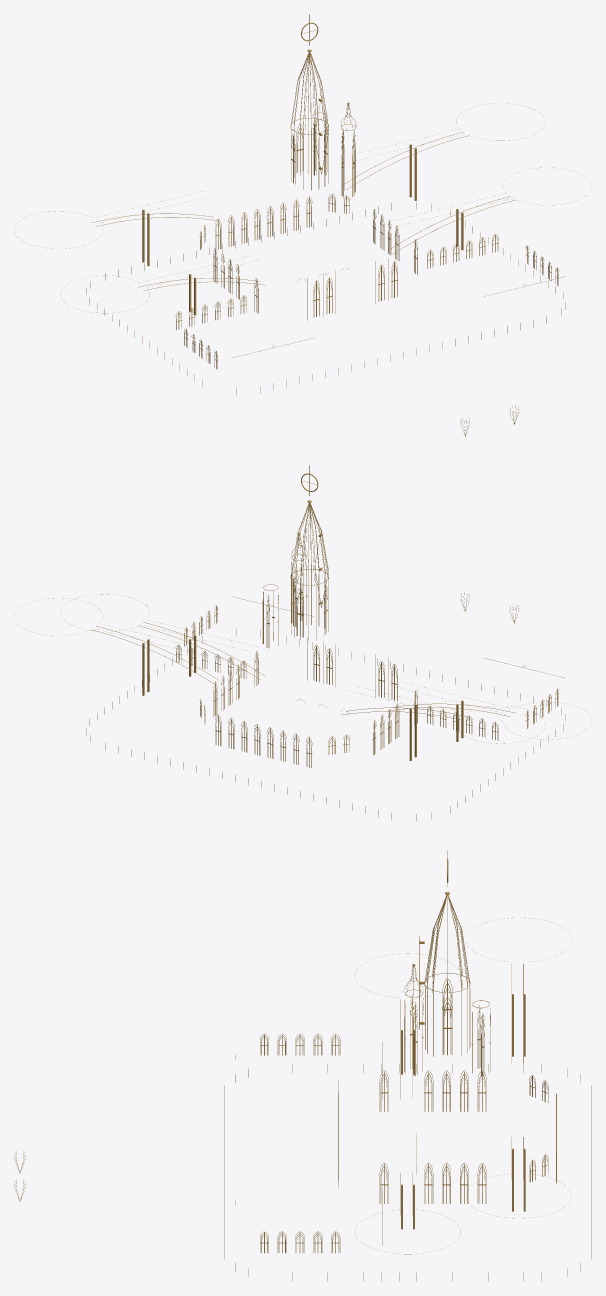
Rendered from Spaceport-04.glb.
The picture shows the model from 3 angles, top to bottom: view 1: azimuth 30°, elevation 25°; view 2: azimuth 150°, elevation 25°; view 3: azimuth 270°, elevation 25°; orthographic projection. The views are drawn at different scales.
Visible parts, largest first — view 1: NSP01.Native.4.1.Gold, NSP01.Native.4.0.Gold; view 2: NSP01.Native.4.1.Gold, NSP01.Native.4.0.Gold; view 3: NSP01.Native.4.0.Gold, NSP01.Native.4.1.Gold.
Part boxes in pixels (x1,y1,x2,y2): NSP01.Native.4.1.Gold: (14, 103, 591, 320); NSP01.Native.4.0.Gold: (86, 14, 565, 436); NSP01.Native.4.1.Gold: (14, 594, 588, 767); NSP01.Native.4.0.Gold: (86, 465, 565, 821); NSP01.Native.4.0.Gold: (14, 850, 591, 1281); NSP01.Native.4.1.Gold: (235, 917, 571, 1254).
Bounding box in the file's own units: 719 × 376 × 584.
